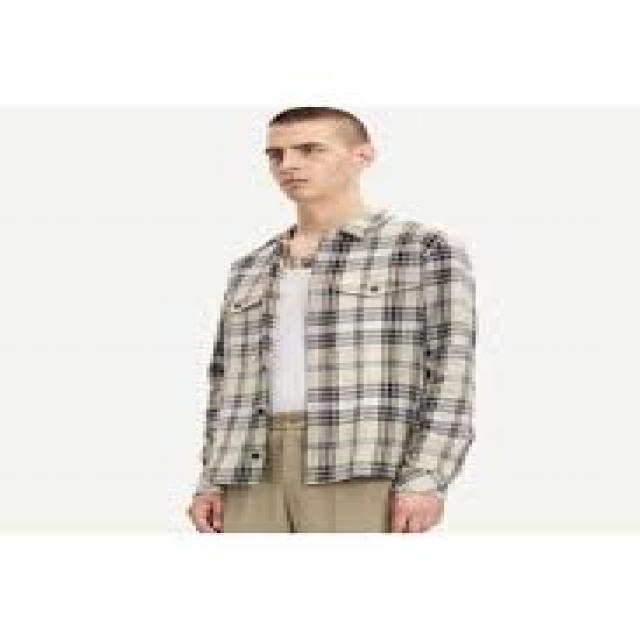plaid: (196, 215, 470, 489)
